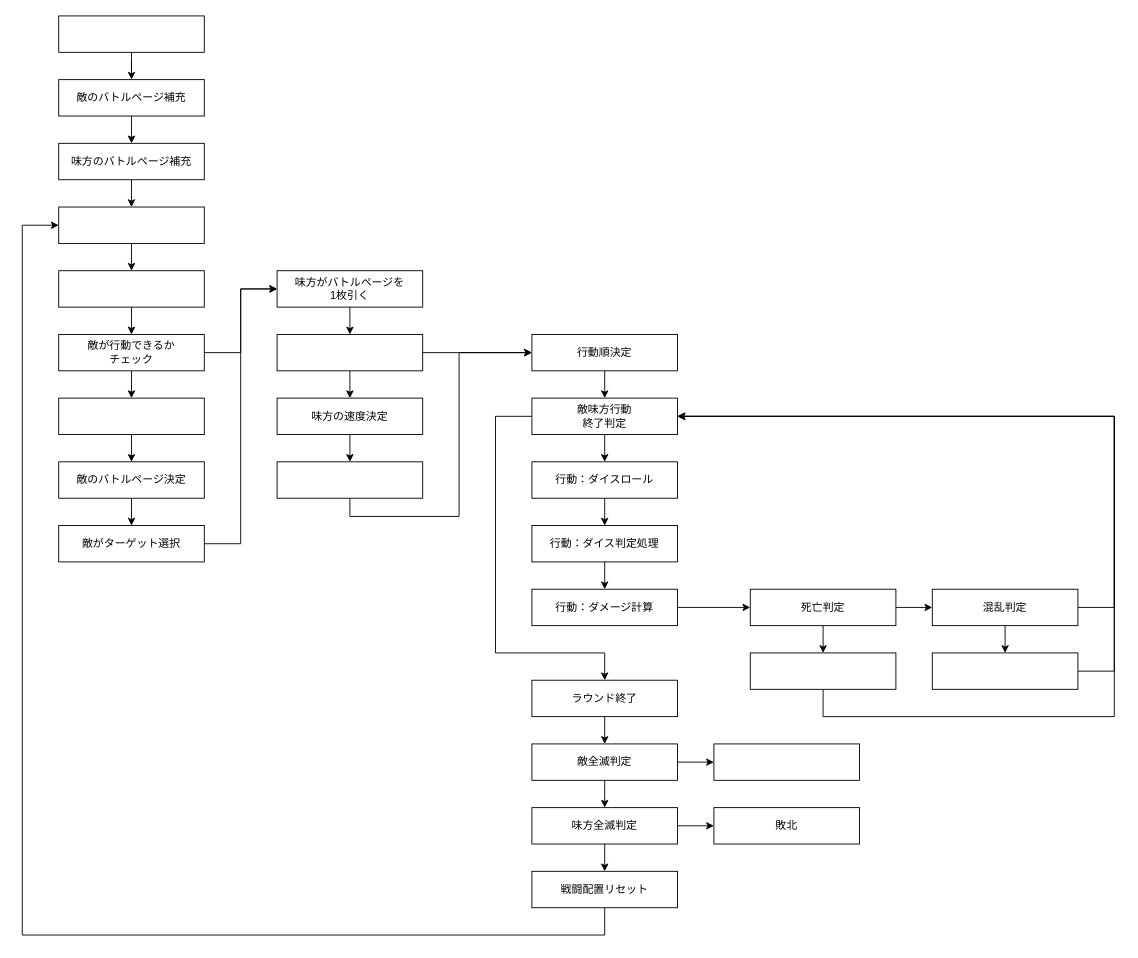
The diagram is 1138 pixels wide and 958 high, and some of its shapes have lost their labels. Here are the shapes that lost their labels. From the top down, the centre of each, then its label:
At (131,33): "戦闘開始".
At (131,224): "ラウンド開始".
At (131,288): "敵がバトルページを 1枚引く".
At (349,352): "味方が行動できるか チェック".
At (131,416): "敵の速度決定".
At (349,479): "味方がバトルページ・ ターゲット選択".
At (822,670): "死亡エフェクト".
At (1004,670): "混乱エフェクト".
At (786,761): "勝利".
